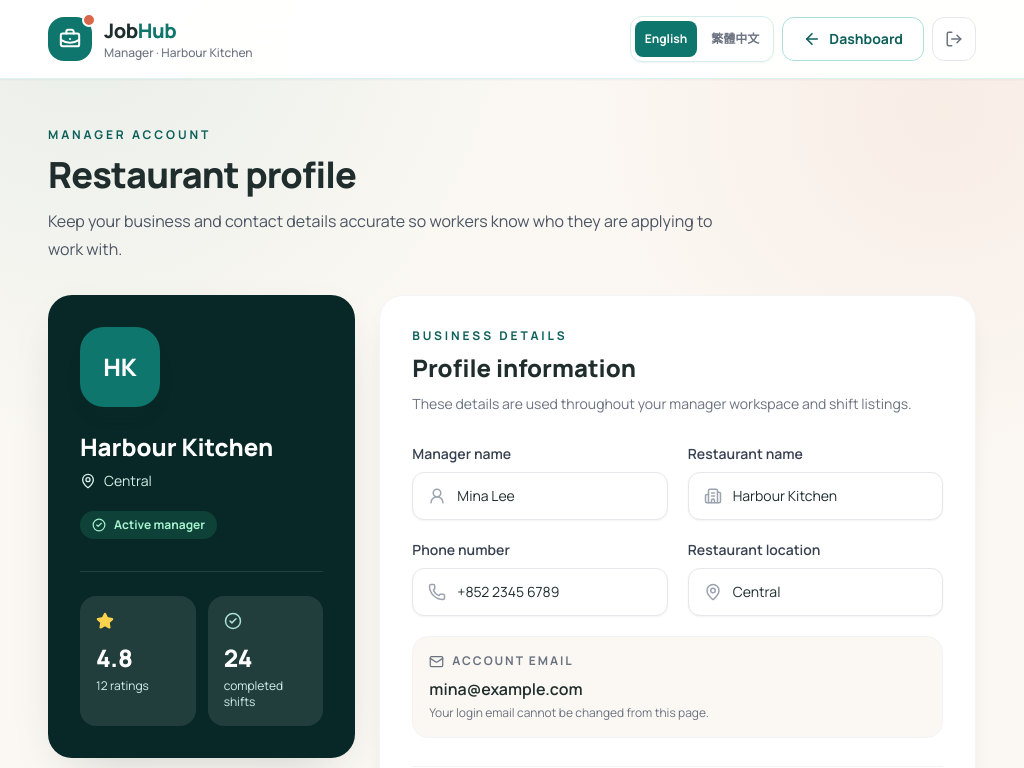
Test: ManagerProfile › loads and updates the restaurant profile with the existing user API
Replace the text in the field labelled "Restaurant name" with "JobHub Bistro" at [815, 496], box x1=688 y1=472 x2=943 y2=520
(page scrolled)
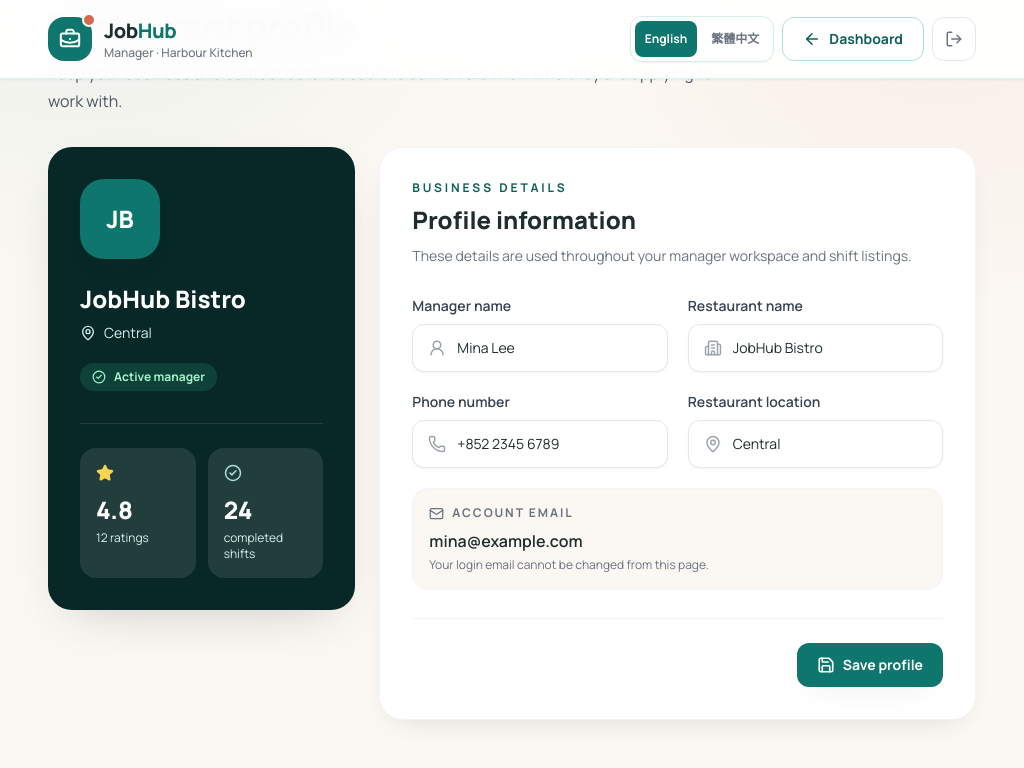
Click the button "Save profile".
click(870, 665)  # box x1=797 y1=643 x2=943 y2=687
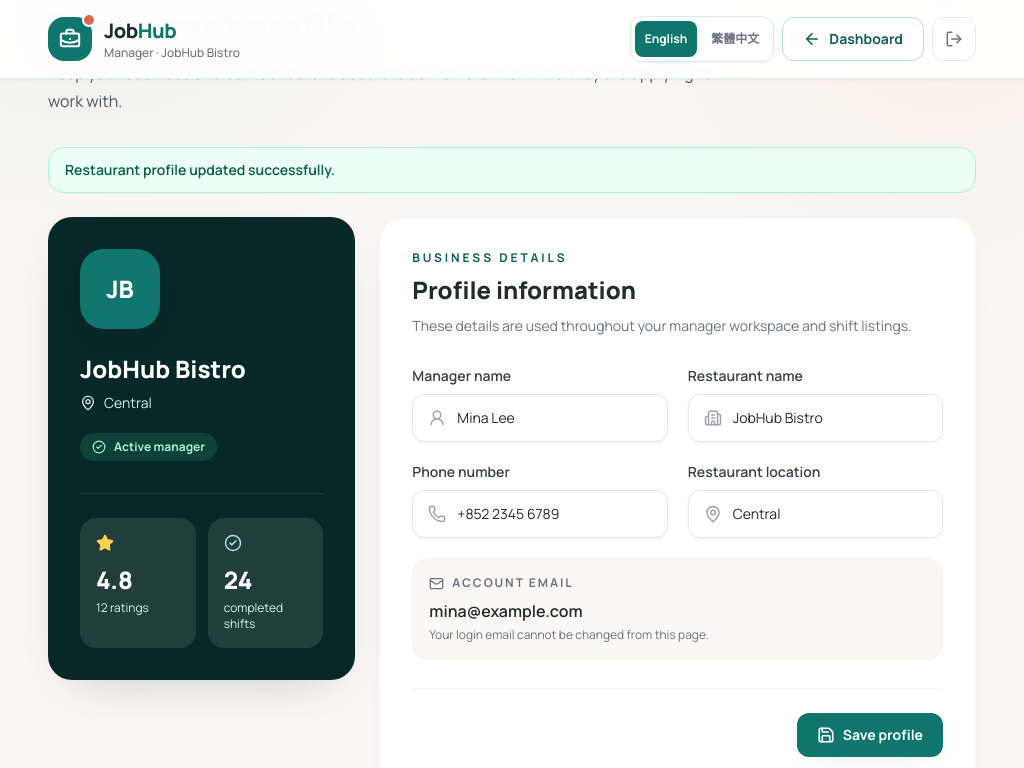
Expected: the text "Restaurant profile updated successfully." is shown, x1=48 y1=147 x2=976 y2=193
